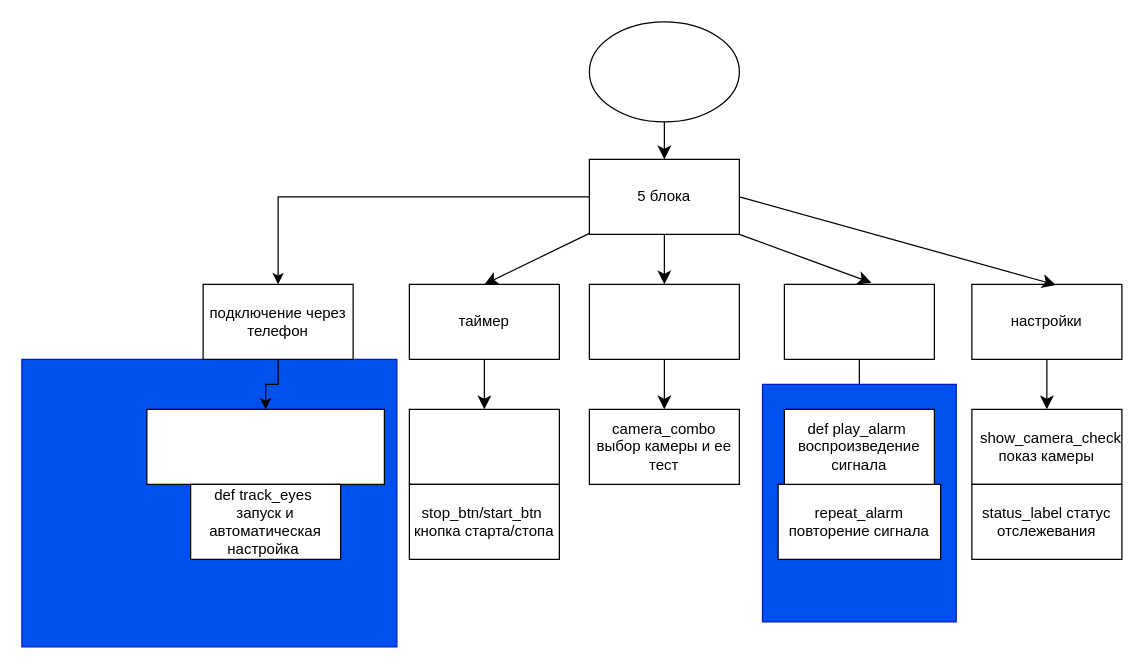
Some shapes in this 1144 by 669 pixel diagram are drawn without their labels. The shapes that lost their labels are listed below. From the top down, each one's centre as x and y in pixels, then its label:
At point (663, 71): "запуск программы".
At point (663, 321): "камера".
At point (858, 321): "звуковой сигнал".
At point (265, 446): "def _check_ivcam_thread_main(self) проверяет наличие программы IVCAM".
At point (483, 446): "time_spin установка таймера".
